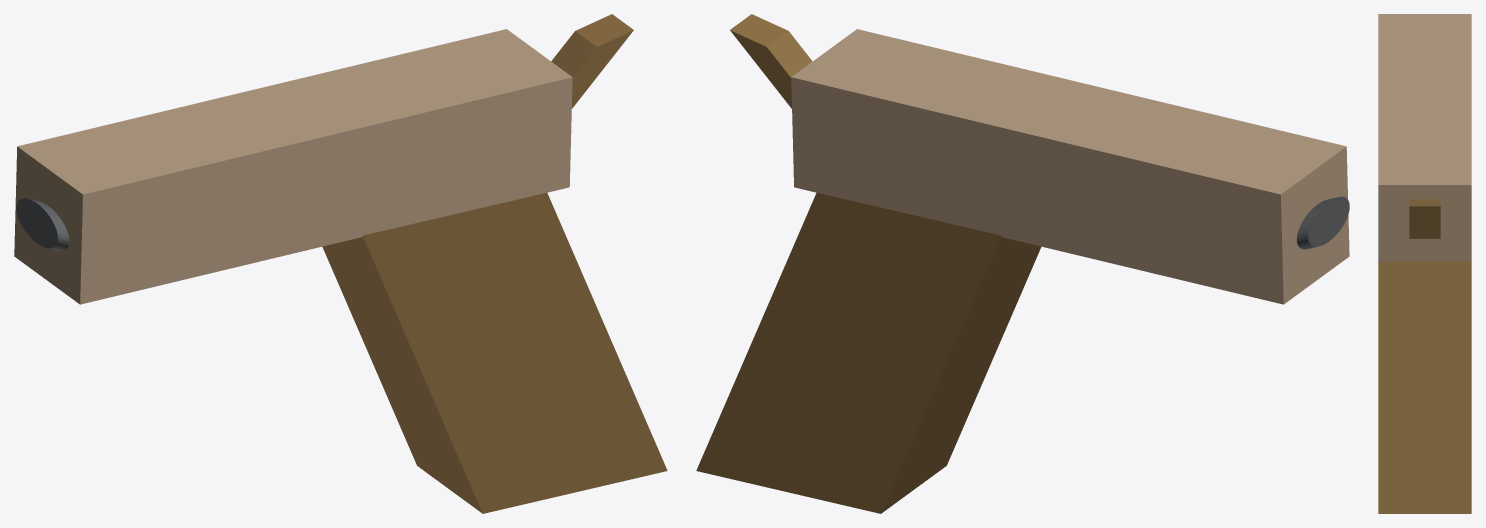
Rendered from pistol.glb.
3 views of the same model, side by side, from view 1: azimuth 30°, elevation 25°; view 2: azimuth 150°, elevation 25°; view 3: azimuth 270°, elevation 25° (orthographic). The views are drawn at different scales.
Visible parts, largest first — view 1: Mesh_Mesh_head_geo.001_lambert2SG.001; view 2: Mesh_Mesh_head_geo.001_lambert2SG.001; view 3: Mesh_Mesh_head_geo.001_lambert2SG.001.
Part boxes in pixels (x1=…): Mesh_Mesh_head_geo.001_lambert2SG.001: x1=14, y1=14, x2=667, y2=513; Mesh_Mesh_head_geo.001_lambert2SG.001: x1=696, y1=14, x2=1349, y2=513; Mesh_Mesh_head_geo.001_lambert2SG.001: x1=1378, y1=14, x2=1471, y2=513.
Bounding box in the file's own units: 0.063 × 0.043 × 0.012.
